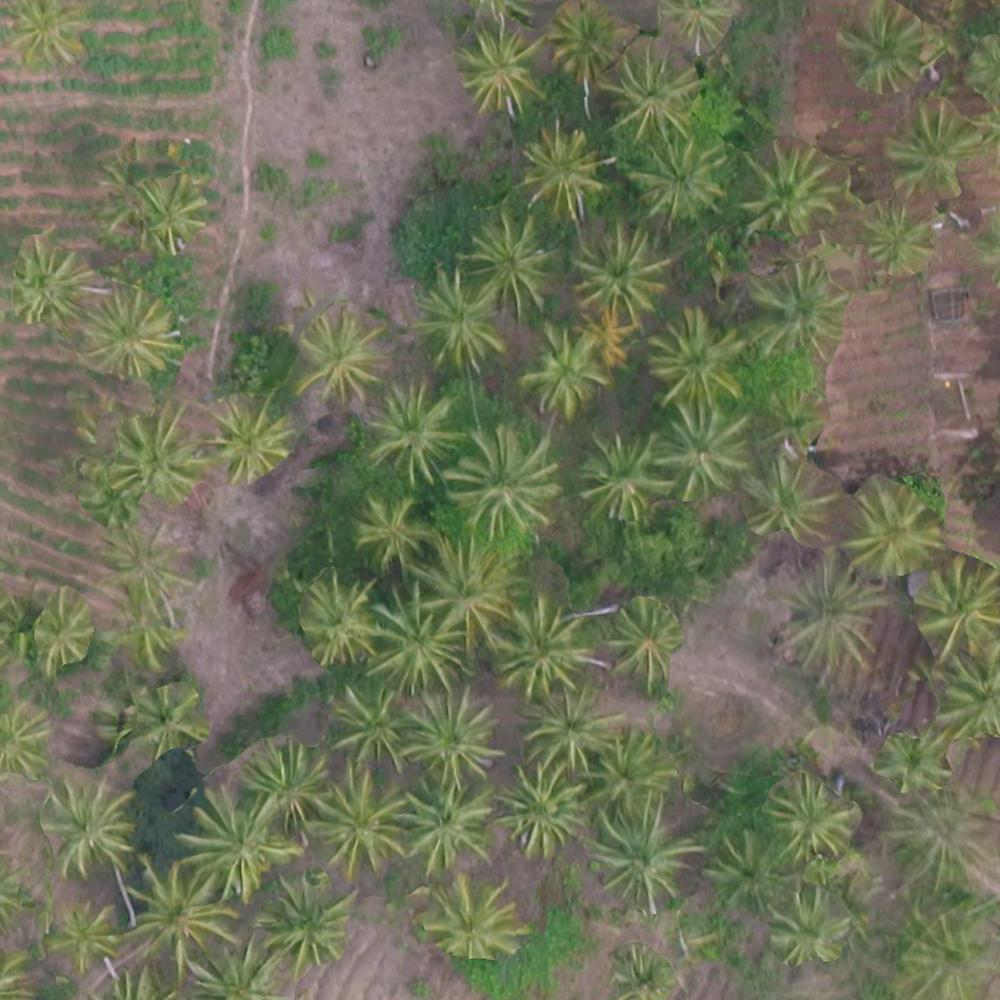Palm: (186, 791, 303, 895), (446, 426, 559, 528), (584, 804, 697, 905), (410, 536, 517, 642), (124, 862, 228, 967), (305, 773, 403, 877), (493, 601, 596, 699), (778, 569, 878, 667), (745, 262, 837, 362), (400, 781, 498, 873), (363, 381, 457, 476), (649, 312, 742, 407), (372, 588, 463, 685), (96, 522, 192, 613), (412, 275, 505, 368), (465, 215, 554, 312), (42, 781, 131, 878), (738, 145, 833, 235), (655, 409, 751, 498), (405, 692, 501, 781), (602, 50, 696, 140), (242, 738, 330, 834), (111, 412, 200, 505), (570, 228, 661, 318), (844, 486, 937, 574), (519, 317, 604, 413), (259, 882, 350, 971), (83, 291, 175, 379), (909, 562, 997, 652), (502, 765, 587, 858), (425, 875, 519, 959), (741, 456, 830, 543), (887, 107, 976, 193), (331, 686, 414, 778), (516, 130, 603, 216), (519, 690, 610, 772), (577, 433, 666, 516), (294, 577, 381, 661), (296, 314, 379, 402), (632, 140, 726, 217), (840, 7, 926, 91), (766, 777, 849, 864), (459, 29, 543, 112), (199, 398, 287, 475), (588, 729, 675, 806), (129, 178, 213, 257), (605, 598, 682, 681), (712, 833, 790, 914), (7, 242, 83, 324), (765, 892, 851, 963), (122, 682, 204, 756), (349, 494, 432, 565), (1, 1, 85, 68), (546, 13, 621, 83), (43, 899, 119, 968), (29, 592, 96, 669), (869, 726, 943, 793), (863, 202, 927, 276)
